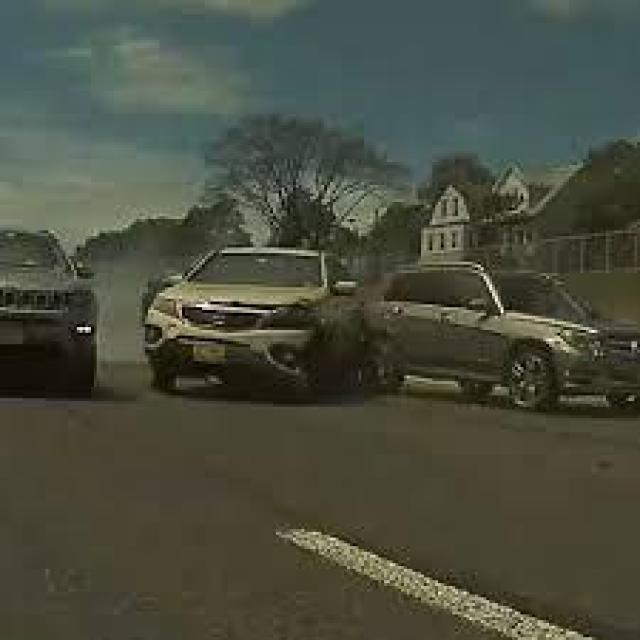moderate: (133, 231, 640, 408)
